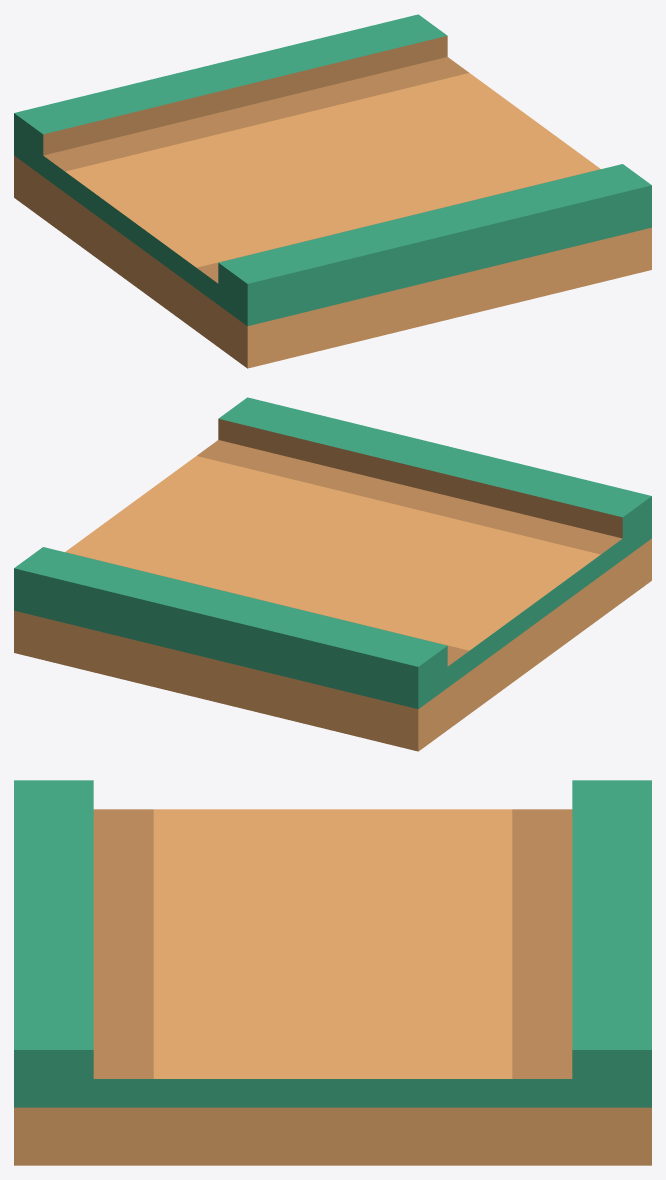
The model's file is TilePathStraightGrass.fbx.
3 renders of one model, top to bottom at view 1: azimuth 30°, elevation 25°; view 2: azimuth 150°, elevation 25°; view 3: azimuth 270°, elevation 25°, orthographic. The views are drawn at different scales.
Parts seen in each view (by area): view 1: tile_straight; view 2: tile_straight; view 3: tile_straight.
Boxes of the visible parts, bbox=[...] form: tile_straight: bbox=[14, 14, 651, 368]; tile_straight: bbox=[14, 397, 651, 751]; tile_straight: bbox=[14, 780, 651, 1165].
Size of the model in its own units: 39.37 by 7.87 by 39.37.
